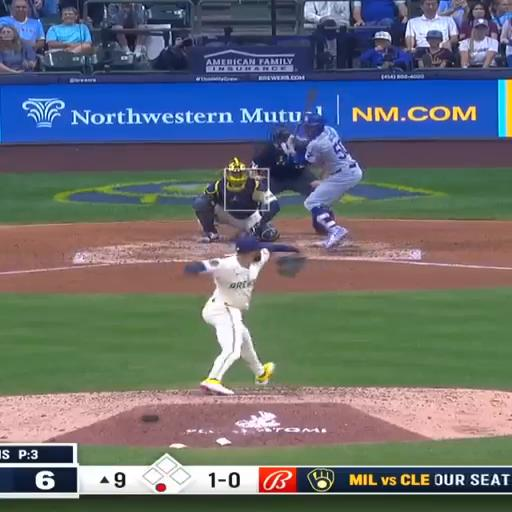bat: (292, 89, 316, 139), (294, 89, 316, 136)
